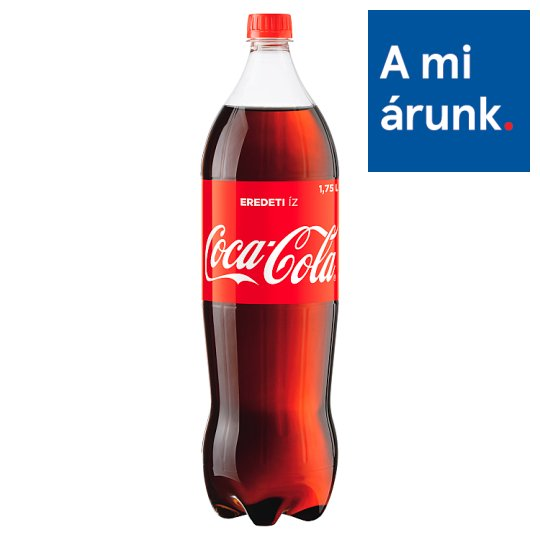Coca-Cola: (179, 10, 349, 534)
